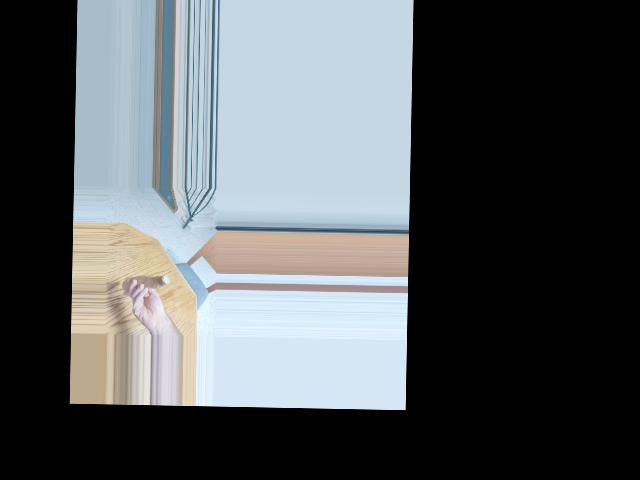sweet_potato: (122, 272, 171, 294)
